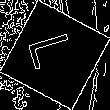L_E: (27, 33, 83, 77)
